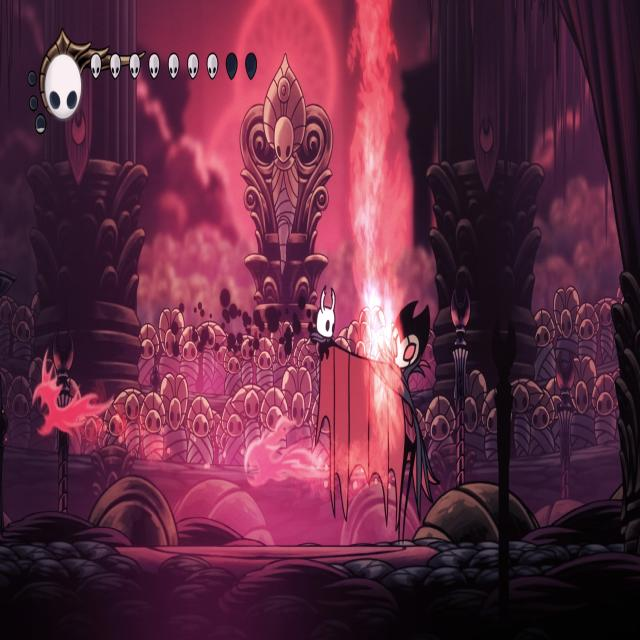Fire Bat: (33, 339, 110, 437), (246, 414, 313, 487)
Open Cloak: (316, 289, 448, 546)
Player: (305, 280, 339, 360)
